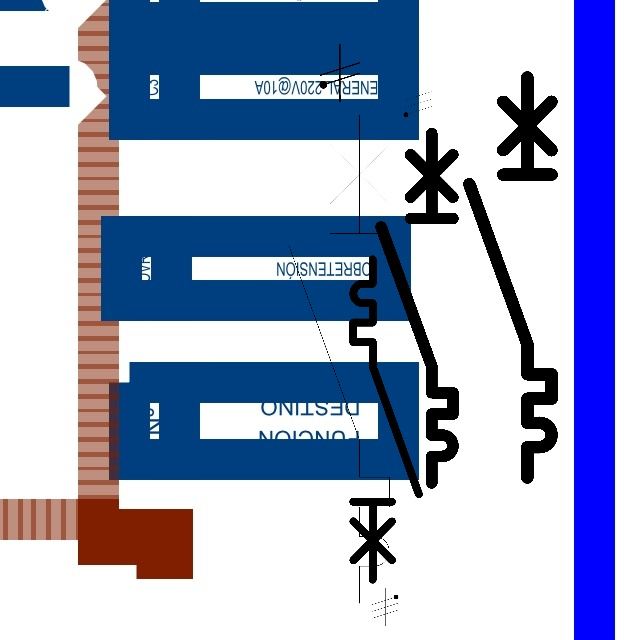interruptor_termomagnetico: (276, 102, 402, 616), (459, 67, 562, 488), (372, 124, 462, 492), (345, 251, 427, 588)
